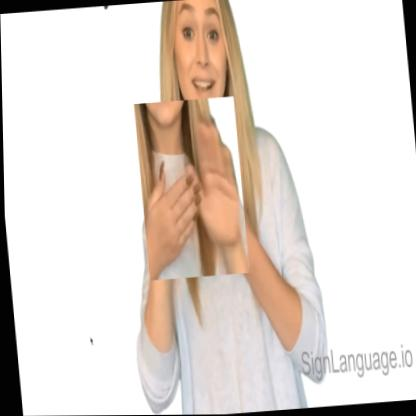NiceToMeetYou: (134, 97, 249, 281)
